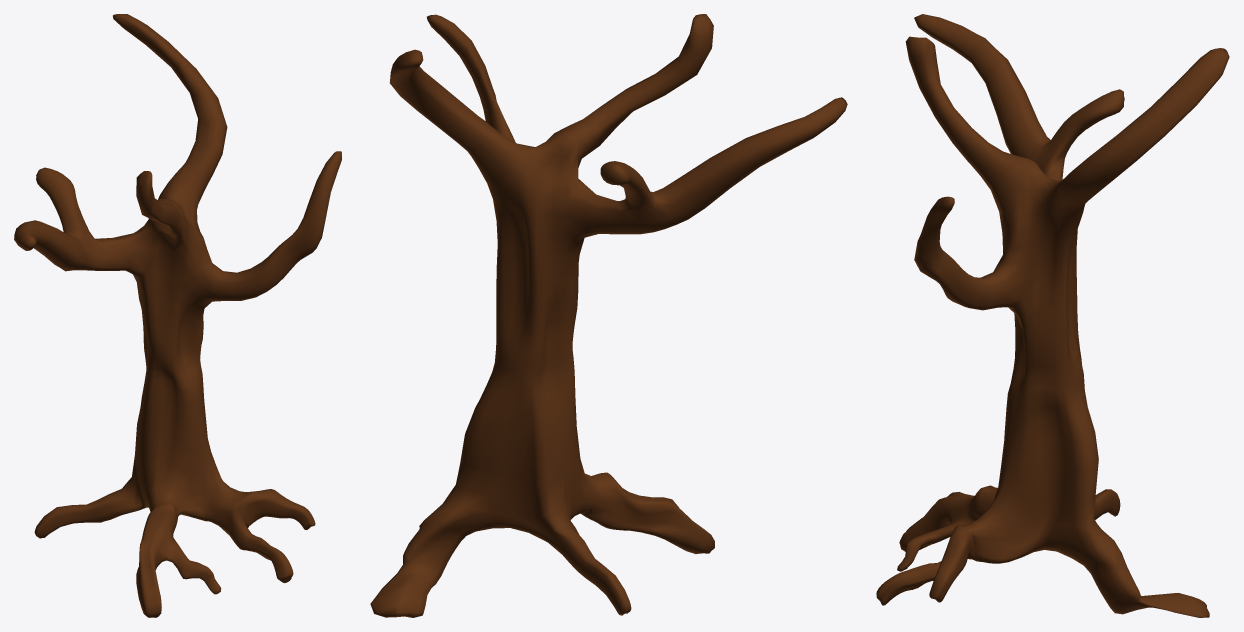
File: Stage Tree.fbx
3 views of the same model, side by side, from view 1: azimuth 30°, elevation 25°; view 2: azimuth 150°, elevation 25°; view 3: azimuth 270°, elevation 25° (orthographic). The views are drawn at different scales.
Parts seen in each view (by area): view 1: Tree; view 2: Tree; view 3: Tree.
Boxes of the visible parts, bbox=[...] form: Tree: bbox=[14, 14, 341, 617]; Tree: bbox=[370, 14, 847, 617]; Tree: bbox=[876, 14, 1229, 617].
Size of the model in its own units: 836 by 1166 by 666.
